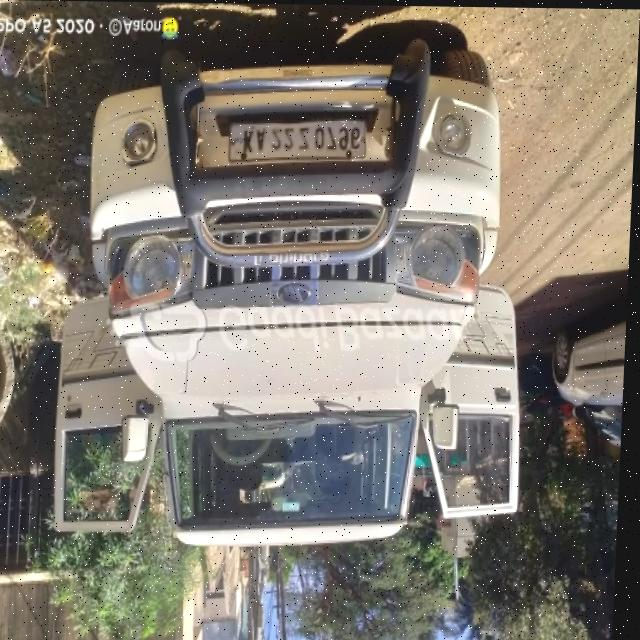plate: (227, 114, 369, 167)
